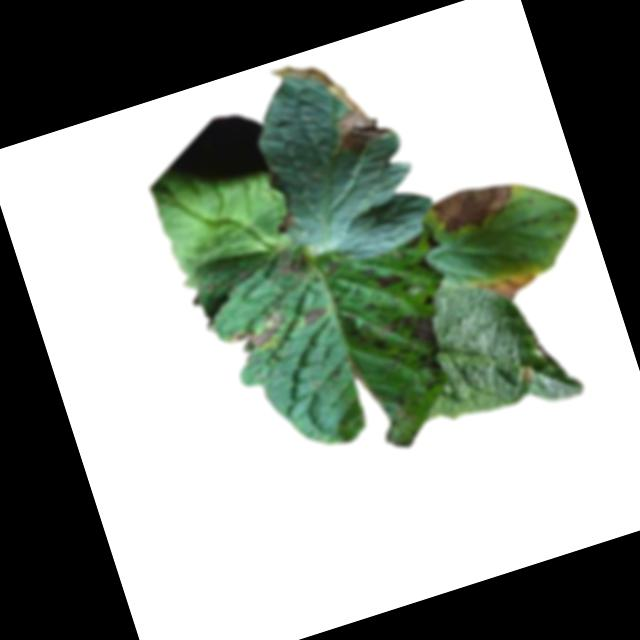Early_blight: (266, 40, 389, 172), (365, 305, 452, 400), (428, 178, 520, 243), (227, 306, 293, 360), (476, 266, 540, 311), (273, 244, 314, 288), (399, 220, 440, 260), (273, 211, 302, 237), (373, 270, 403, 291), (303, 304, 330, 325), (517, 363, 538, 385), (421, 292, 438, 307)
